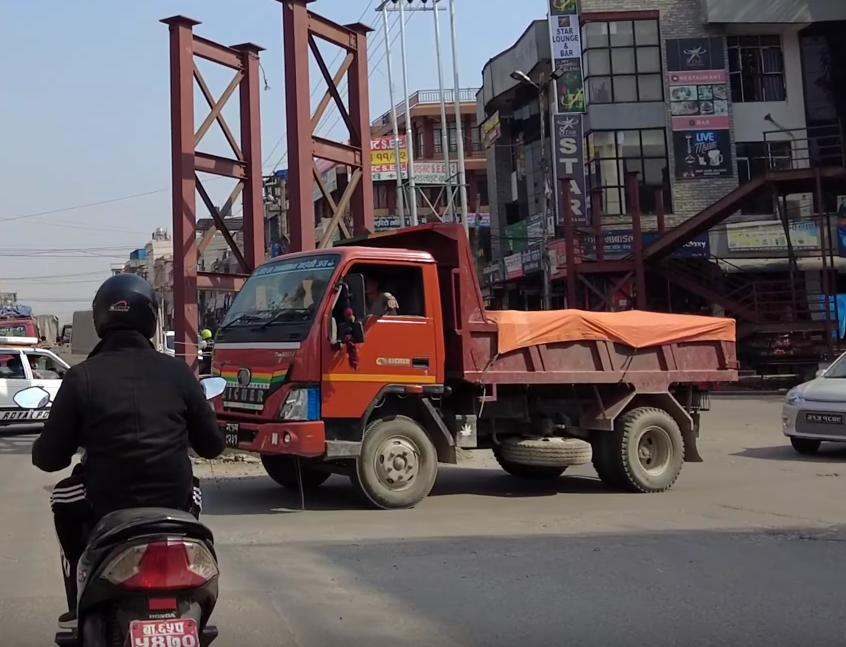car: (766, 339, 846, 489)
mini_truck: (189, 205, 748, 516)
scooter: (39, 269, 233, 647)
taxi: (0, 307, 80, 432)
